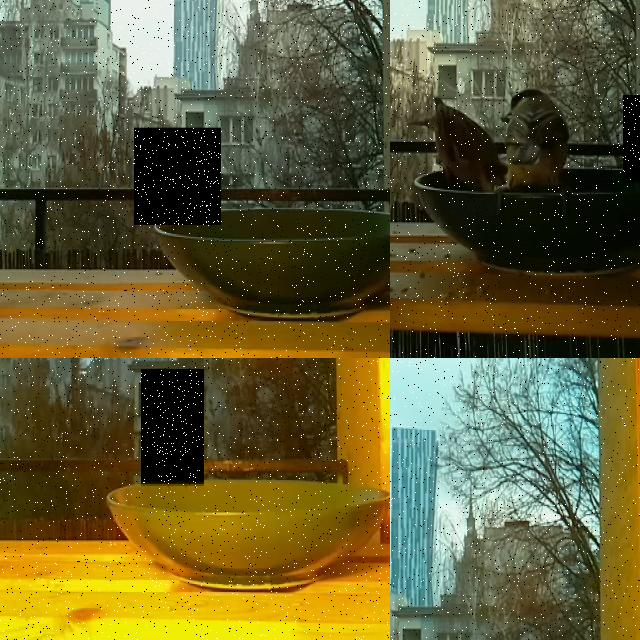Bogatka: (134, 128, 221, 225), (506, 83, 572, 198), (141, 370, 204, 486), (623, 95, 640, 183)
Wrobel: (414, 95, 504, 194)
